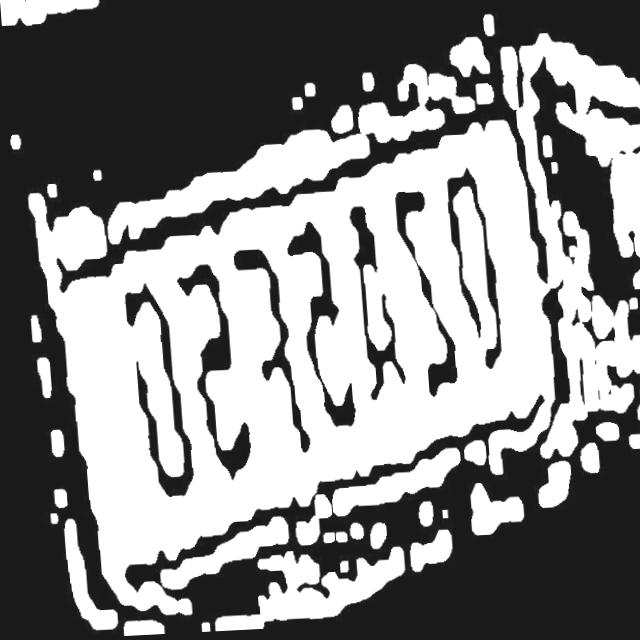0: (114, 280, 190, 508)
5: (174, 257, 248, 489), (285, 216, 351, 443)
a: (341, 200, 405, 422)
f: (234, 240, 299, 465)
q: (438, 163, 507, 393)
z: (386, 184, 453, 408)
